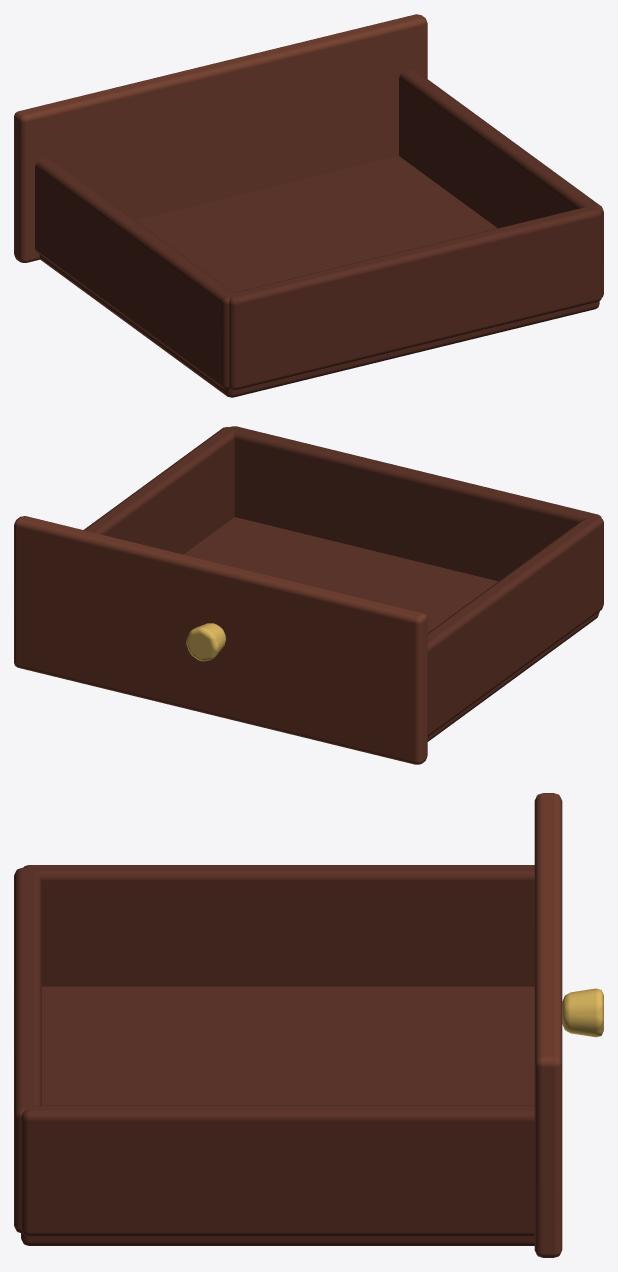
File: SM_PRP_GavetaAparador.fbx
3 views of the same model, one above another, from view 1: azimuth 30°, elevation 25°; view 2: azimuth 150°, elevation 25°; view 3: azimuth 270°, elevation 25° (orthographic). The views are drawn at different scales.
Visible parts, largest first — view 1: SM_PRP_GavetaAparador; view 2: SM_PRP_GavetaAparador; view 3: SM_PRP_GavetaAparador.
Part boxes in pixels (left/top/right/bottom): SM_PRP_GavetaAparador: left=14, top=14, right=603, bottom=397; SM_PRP_GavetaAparador: left=14, top=426, right=603, bottom=764; SM_PRP_GavetaAparador: left=14, top=793, right=603, bottom=1257.
Bounding box in the file's own units: 0.46 × 0.16 × 0.425.
